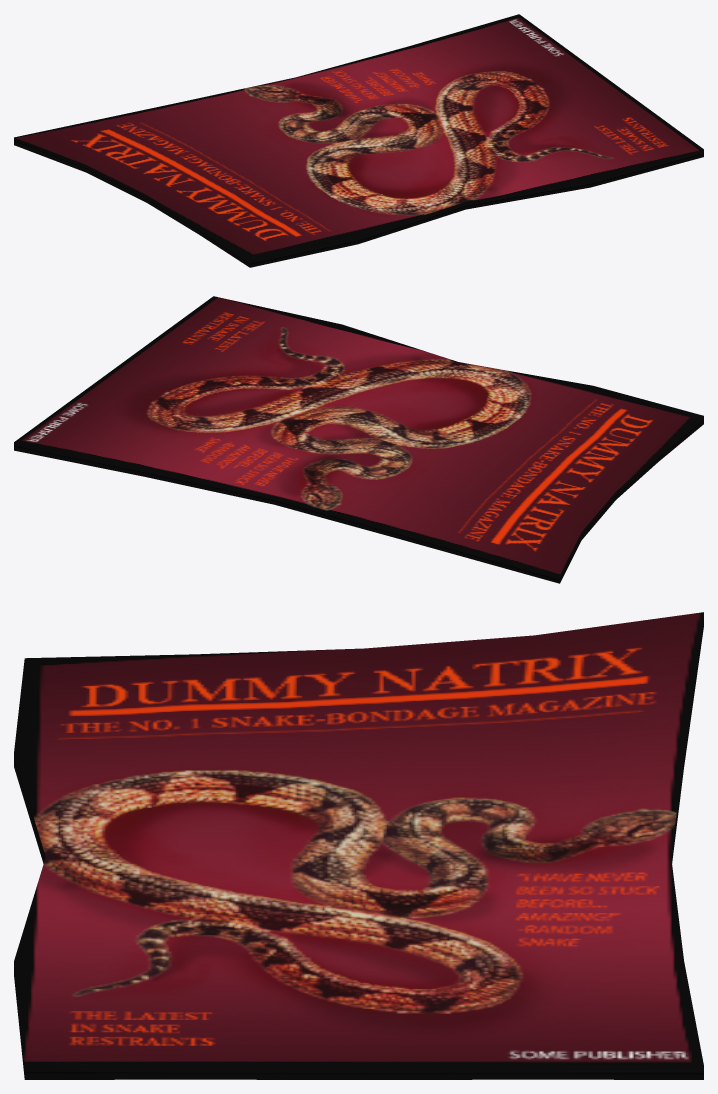
Rendered from dirtyMagazine_red.fbx.
3 views of the same model, one above another, from view 1: azimuth 30°, elevation 25°; view 2: azimuth 150°, elevation 25°; view 3: azimuth 270°, elevation 25° (orthographic). The views are drawn at different scales.
Parts seen in each view (by area): view 1: dirtyMagazine; view 2: dirtyMagazine; view 3: dirtyMagazine.
Boxes of the visible parts, bbox=[...] form: dirtyMagazine: bbox=[14, 14, 703, 267]; dirtyMagazine: bbox=[14, 296, 703, 583]; dirtyMagazine: bbox=[14, 612, 703, 1079].
Size of the model in its own units: 57.84 by 0.8513 by 37.19.
